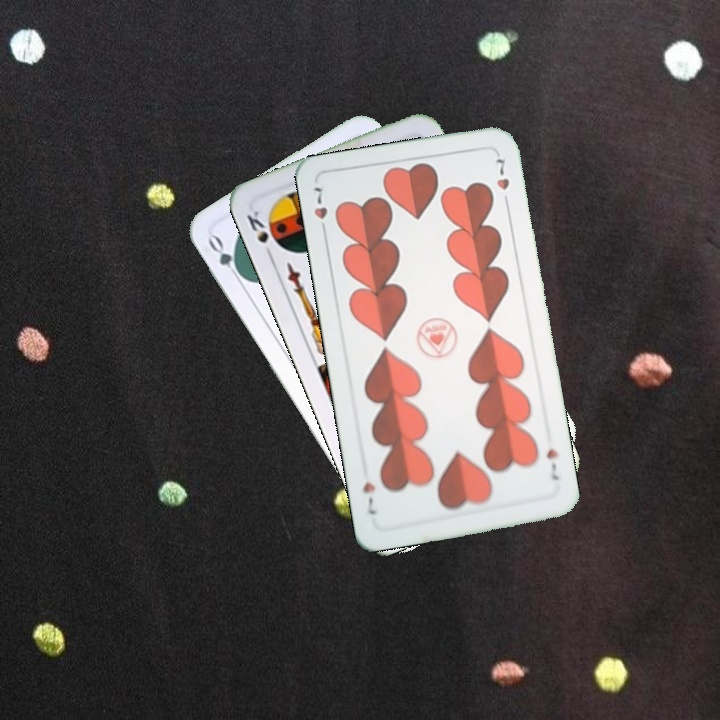GO: (204, 231, 249, 286)
H7: (309, 183, 330, 239), (542, 445, 561, 483)
SK: (242, 206, 284, 262)
